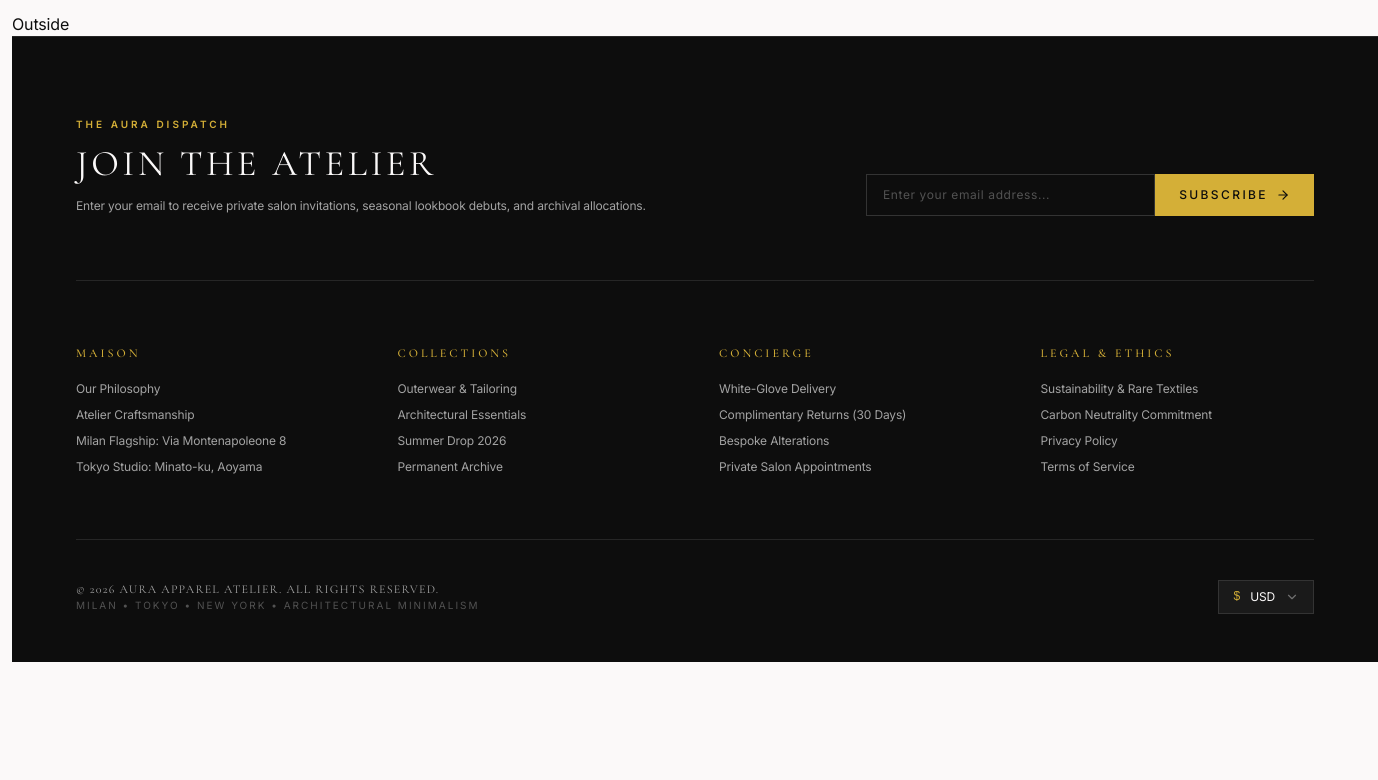
Challenger M1.2: Empirical Stress & Layout Verification Suite › Area 1: Currency Switching & Cross-Component State Propagation › Footer currency selector closes when clicking outside
Click the button with test id "currency-selector". click: (1266, 596)
box: [1218,580,1314,614]
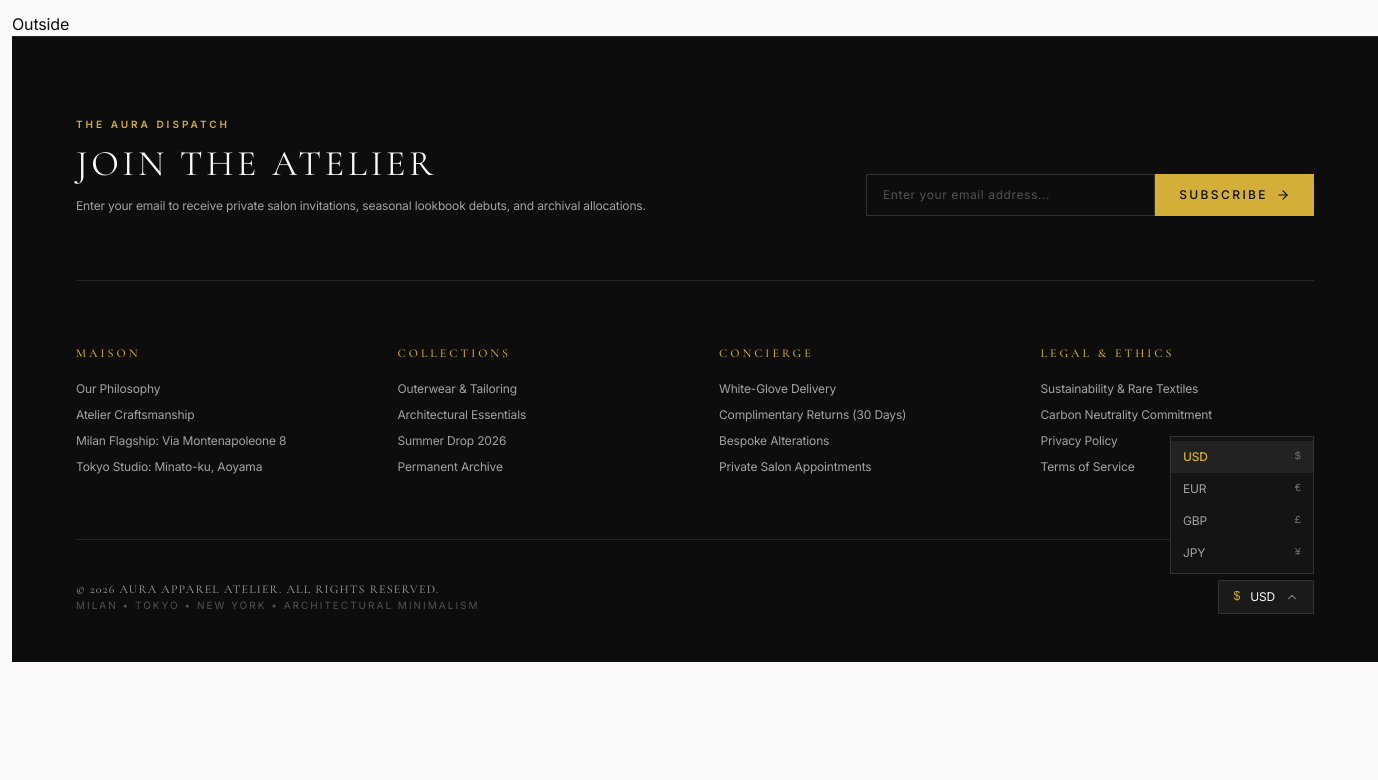
Now the list with test id "currency-dropdown" is shown, box [1170,436,1314,574]
// Click outside
Press the mouse on the text with test id "outside-element" at (41, 24), box [12,14,69,34]
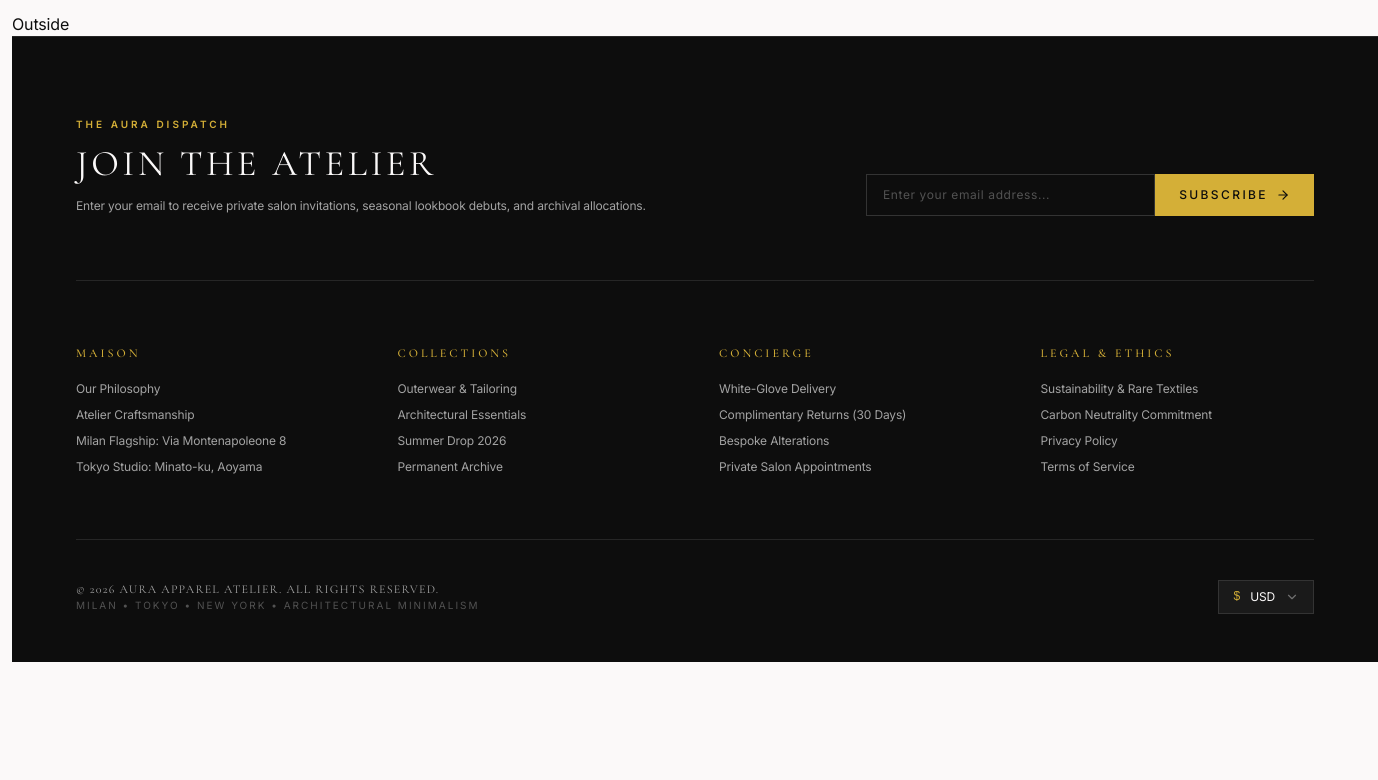
Now the list with test id "currency-dropdown" is gone
